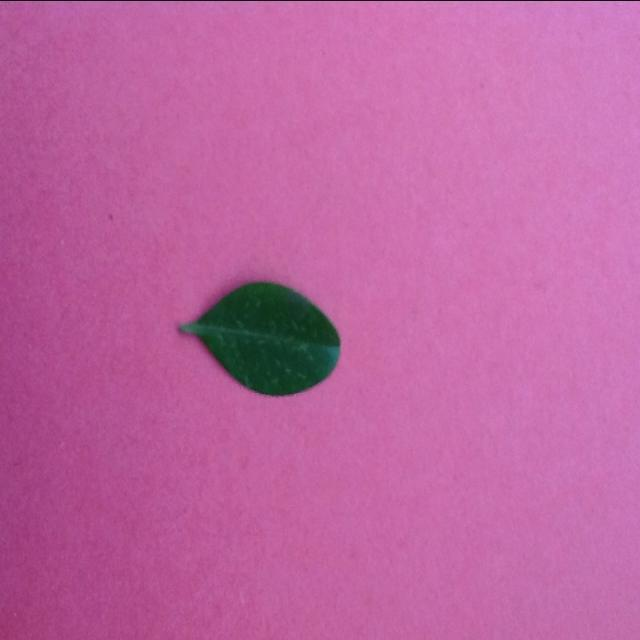foliage: (178, 274, 346, 394)
